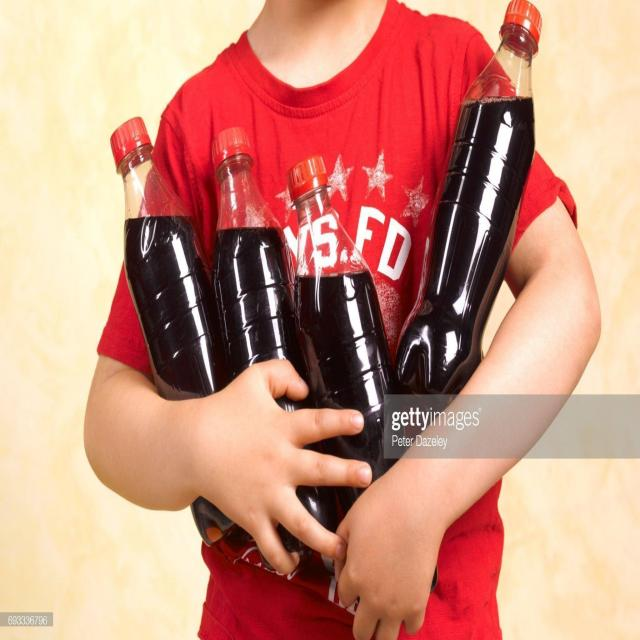bottle-plastic: (392, 0, 545, 389), (106, 114, 236, 544), (285, 156, 400, 477), (208, 125, 299, 377)
